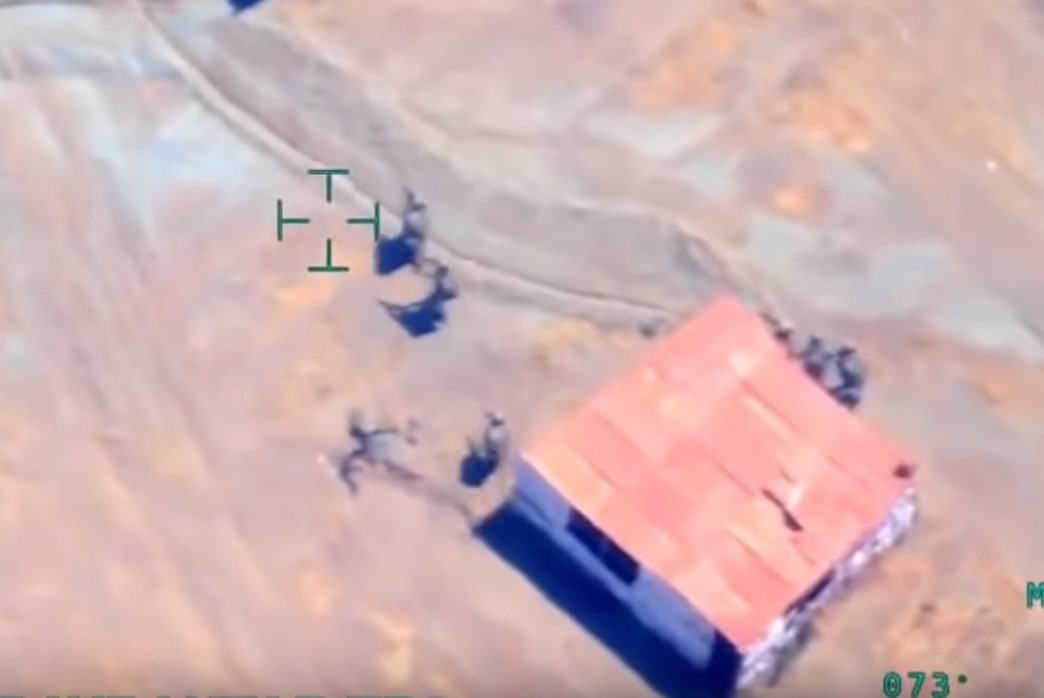insan: (383, 190, 428, 275), (482, 399, 512, 478), (426, 259, 458, 329), (839, 340, 871, 409)
